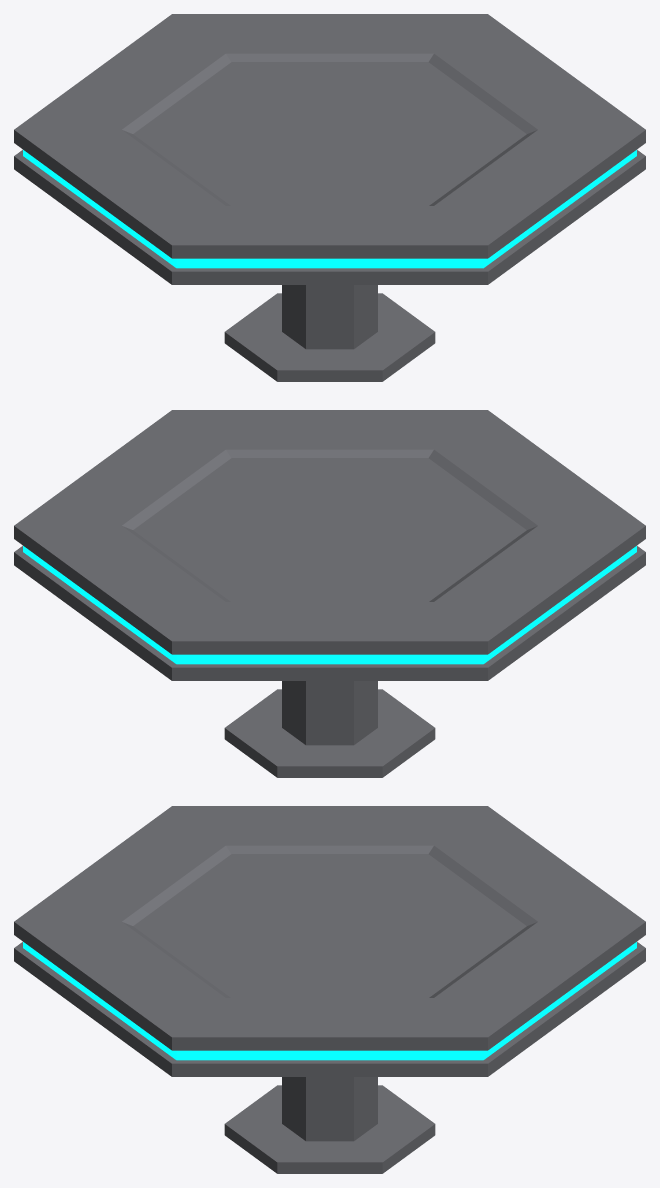
The model's file is table.glb.
The picture shows the model from 3 angles, top to bottom: view 1: azimuth 30°, elevation 25°; view 2: azimuth 150°, elevation 25°; view 3: azimuth 270°, elevation 25°; orthographic projection.
Visible parts, largest first — view 1: table_2.001; view 2: table_2.001; view 3: table_2.001.
Part boxes in pixels (left/top/right/bottom): table_2.001: left=14, top=14, right=645, bottom=381; table_2.001: left=14, top=410, right=645, bottom=777; table_2.001: left=14, top=806, right=645, bottom=1173.
Size of the model in its own units: 2.83 by 1.22 by 3.27.
